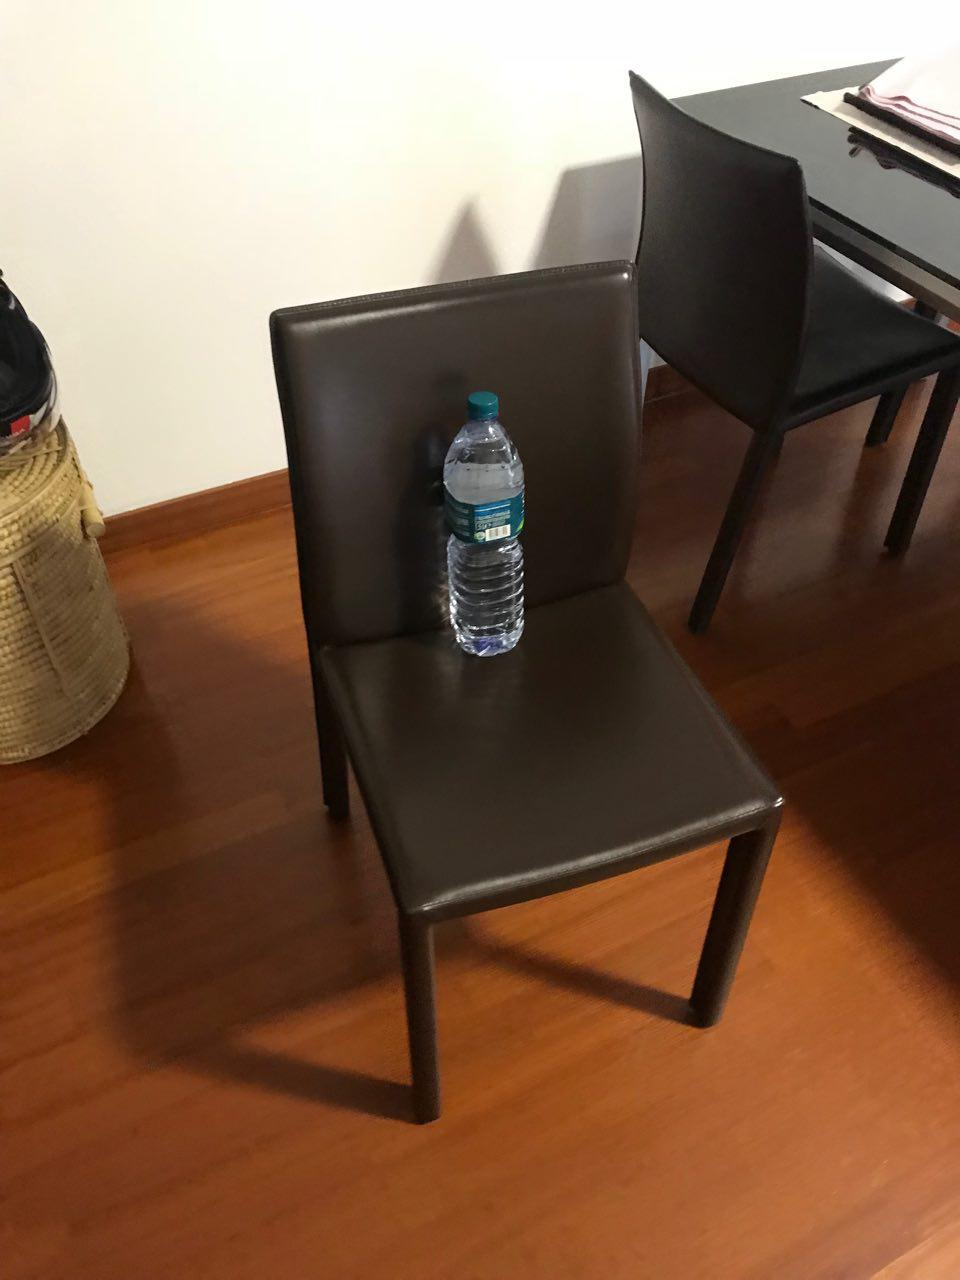san_bernardo: (442, 390, 525, 656)
